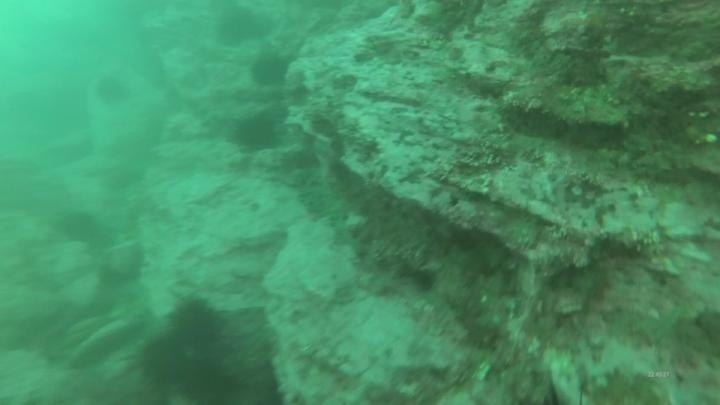echinus: (168, 296, 225, 353), (135, 333, 193, 389), (177, 356, 236, 404), (231, 112, 282, 154), (213, 8, 264, 49), (56, 208, 103, 246), (248, 51, 291, 90), (93, 72, 131, 108)
